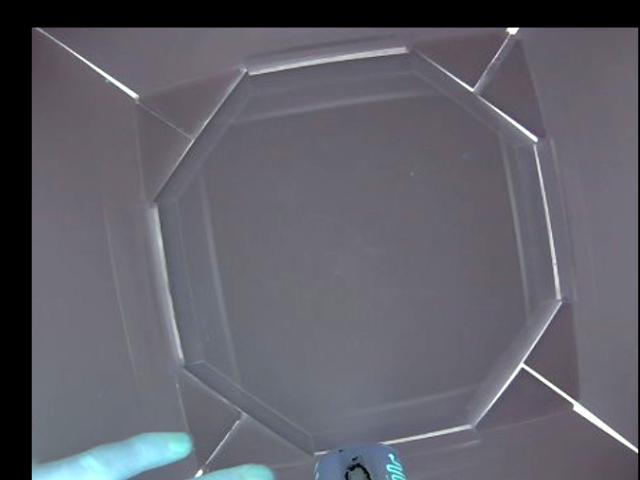Bottle: (312, 442, 405, 480)
